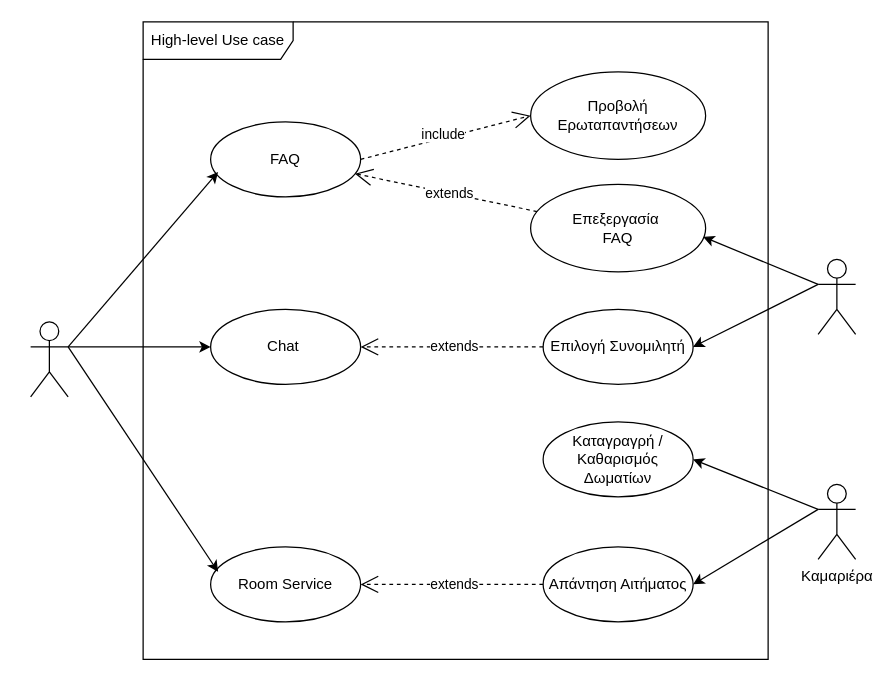
Image size: 894x681. Some labels were removed from this diagram. Each missing label, with the centre of its shape:
"Πελάτης" goes at pixel 48 359.
"Υποδοχή" goes at pixel 836 296.
